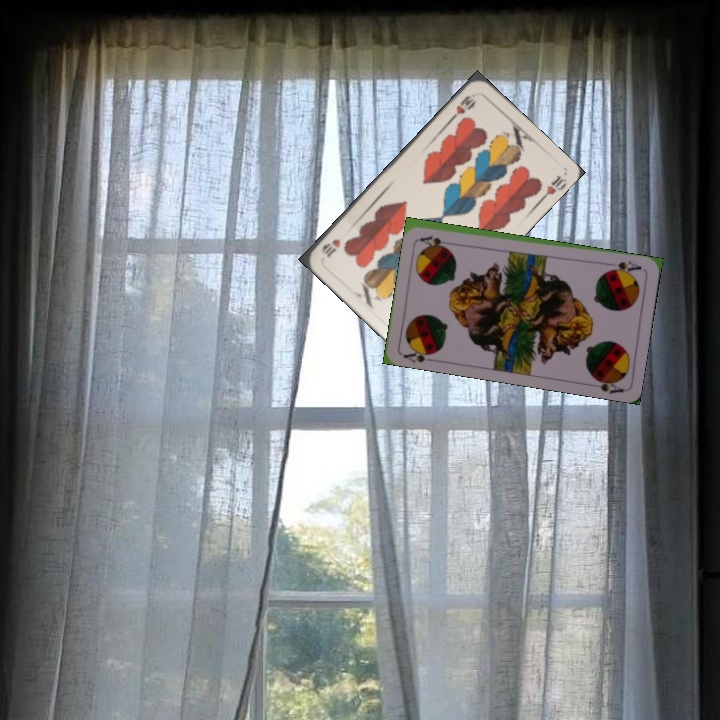H10: (447, 90, 478, 123)
SA: (399, 343, 440, 365), (604, 257, 644, 276)
